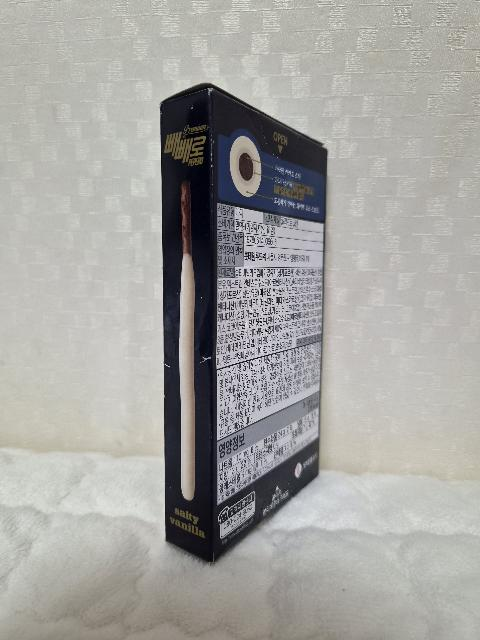pepero: (159, 82, 328, 563)
